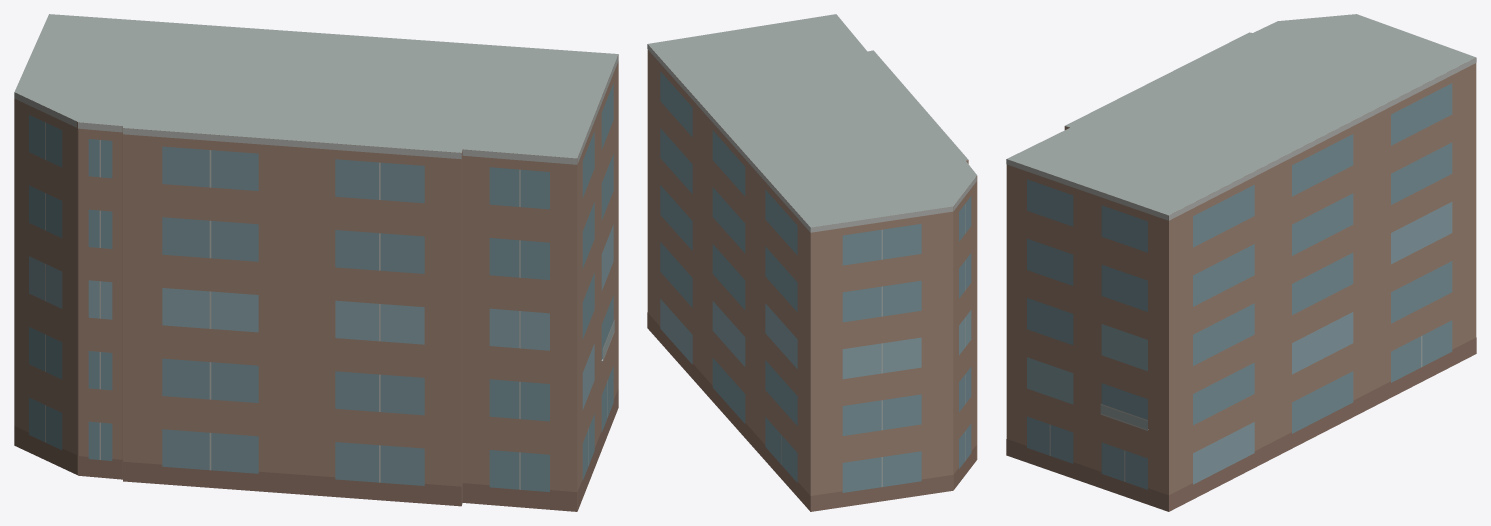
Rendered from survey-upis-32995618.glb.
The picture shows the model from 3 angles, left to right: view 1: azimuth 30°, elevation 25°; view 2: azimuth 150°, elevation 25°; view 3: azimuth 270°, elevation 25°; orthographic projection. The views are drawn at different scales.
Visible parts, largest first — view 1: survey-upis-32995618.tmp; view 2: survey-upis-32995618.tmp; view 3: survey-upis-32995618.tmp.
Part boxes in pixels (x1=…): survey-upis-32995618.tmp: x1=14, y1=14, x2=618, y2=511; survey-upis-32995618.tmp: x1=647, y1=14, x2=977, y2=511; survey-upis-32995618.tmp: x1=1006, y1=14, x2=1476, y2=511.
Size of the model in its own units: 19.83 by 13.6 by 19.55.
